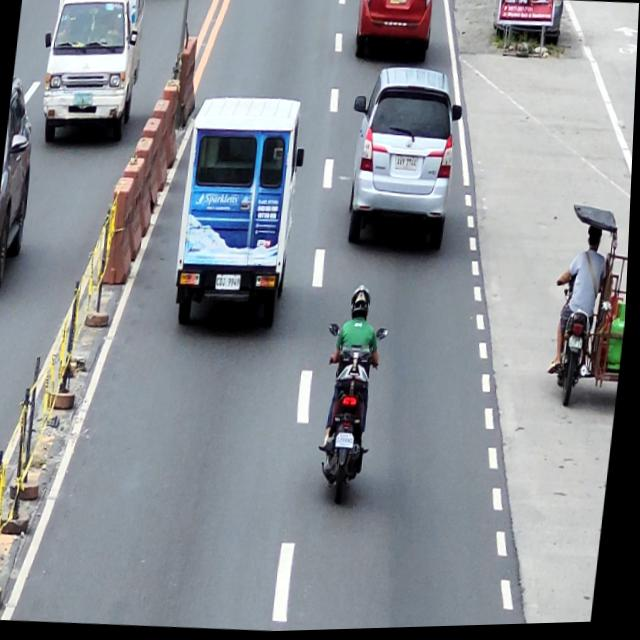Car: (170, 92, 312, 335), (340, 66, 468, 258), (36, 0, 146, 150), (0, 71, 42, 288), (353, 0, 434, 64)
License-Plate: (396, 155, 420, 174), (217, 275, 243, 292), (338, 432, 359, 452), (73, 92, 94, 107), (570, 337, 587, 353), (389, 0, 406, 6)
Motorcycle: (313, 320, 391, 508)
Tricycle: (548, 204, 632, 417)
